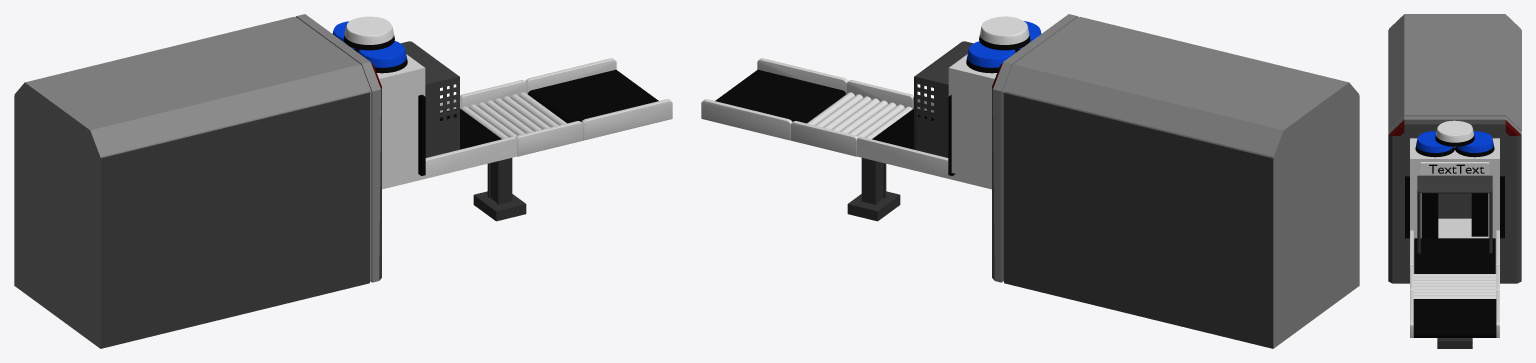
Rendered from conveyor1 (3).fbx.
The picture shows the model from 3 angles, left to right: view 1: azimuth 30°, elevation 25°; view 2: azimuth 150°, elevation 25°; view 3: azimuth 270°, elevation 25°; orthographic projection. The views are drawn at different scales.
Visible parts, largest first — view 1: Cube.008, Cube, Cylinder.001, Cube.010, Cylinder, Cube.009, Cube.011, Circle.001, Circle, Cube.003; view 2: Cube.008, Cube, Cylinder.001, Cube.010, Cylinder, Cube.009, Cube.011, Circle.001, Circle; view 3: Cube.008, Cube, Cylinder.001, Cylinder, Circle, Cube.003, Cube.004, Circle.001, Plane, Cylinder.002, Cube.011, Cube.010 (+2 smaller).
Boxes of the visible parts, left/top/right/bottom form: Cube.008: left=14, top=14, right=381, bottom=348; Cube: left=332, top=33, right=516, bottom=189; Cylinder.001: left=527, top=69, right=658, bottom=123; Cube.010: left=525, top=58, right=672, bottom=140; Cylinder: left=461, top=92, right=566, bottom=139; Cube.009: left=460, top=80, right=582, bottom=156; Cube.011: left=473, top=158, right=526, bottom=221; Circle.001: left=343, top=16, right=394, bottom=50; Circle: left=332, top=21, right=407, bottom=73; Cube.003: left=418, top=94, right=425, bottom=175; Cube.008: left=992, top=14, right=1359, bottom=348; Cube: left=857, top=33, right=1041, bottom=189; Cylinder.001: left=715, top=69, right=846, bottom=123; Cube.010: left=701, top=58, right=848, bottom=140; Cylinder: left=807, top=92, right=912, bottom=139; Cube.009: left=791, top=80, right=913, bottom=156; Cube.011: left=847, top=158, right=900, bottom=221; Circle.001: left=979, top=16, right=1030, bottom=50; Circle: left=966, top=21, right=1041, bottom=73; Cube.008: left=1388, top=14, right=1521, bottom=283; Cube: left=1410, top=138, right=1499, bottom=273; Cylinder.001: left=1413, top=299, right=1496, bottom=337; Cylinder: left=1413, top=274, right=1496, bottom=298; Circle: left=1415, top=131, right=1494, bottom=157; Cube.003: left=1405, top=176, right=1438, bottom=238; Cube.004: left=1471, top=176, right=1504, bottom=238; Circle.001: left=1435, top=120, right=1474, bottom=146; Plane: left=1420, top=162, right=1489, bottom=174; Cylinder.002: left=1413, top=331, right=1496, bottom=337; Cube.011: left=1437, top=338, right=1472, bottom=348; Cube.010: left=1410, top=291, right=1499, bottom=337.
Bounding box in the file's own units: 1163 × 407 × 296.
